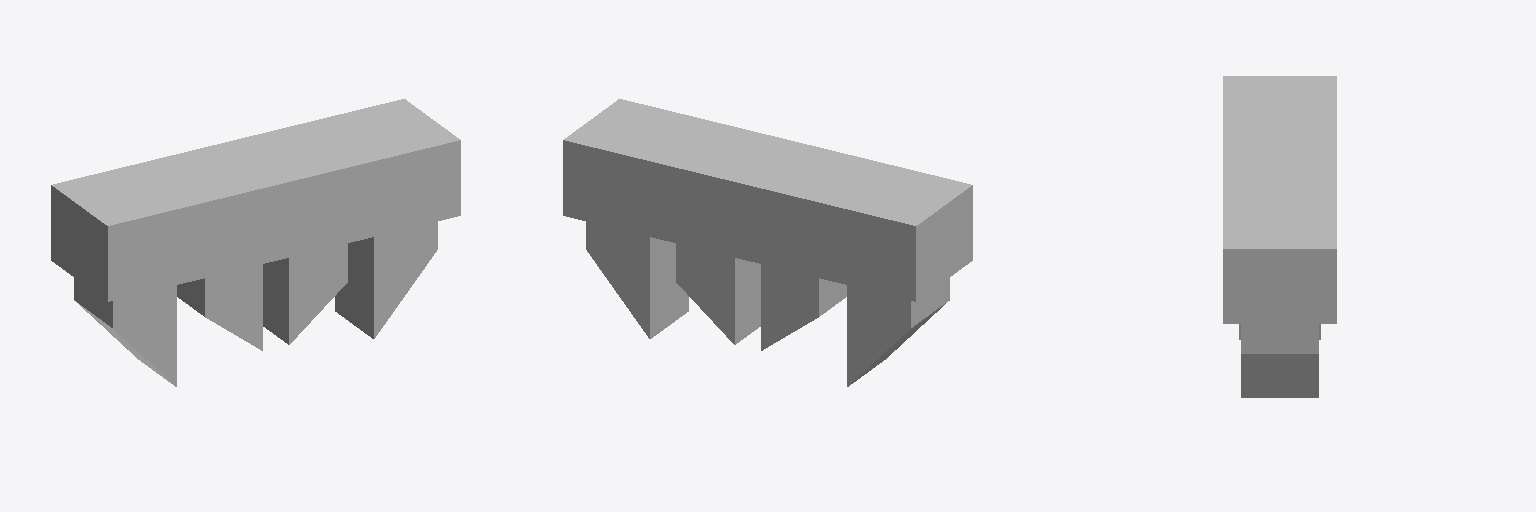
The model's file is teeth.obj.
3 renders of one model, left to right at view 1: azimuth 30°, elevation 25°; view 2: azimuth 150°, elevation 25°; view 3: azimuth 270°, elevation 25°, orthographic.
Visible parts, largest first — view 1: Cube_Cube.002; view 2: Cube_Cube.002; view 3: Cube_Cube.002.
Boxes of the visible parts, x1=… form: Cube_Cube.002: x1=51, y1=99, x2=460, y2=386; Cube_Cube.002: x1=563, y1=99, x2=972, y2=386; Cube_Cube.002: x1=1223, y1=76, x2=1336, y2=397.
Bounding box in the file's own units: 0.0929 × 0.047 × 0.0258.